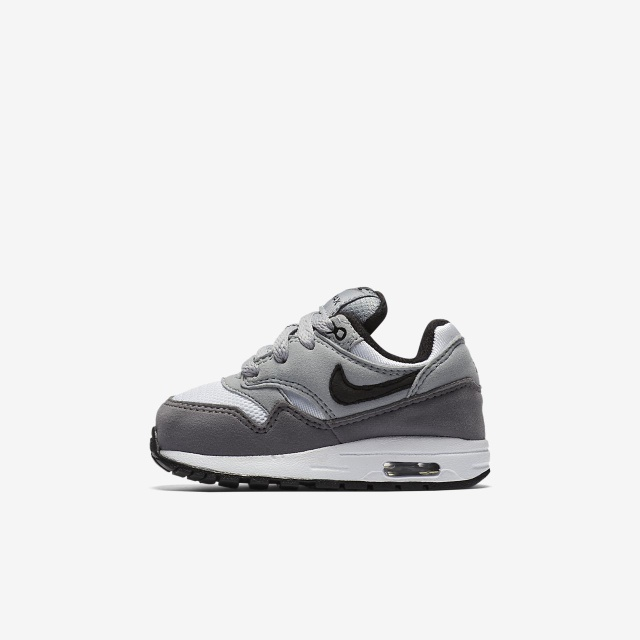nike: (323, 354, 430, 410)
